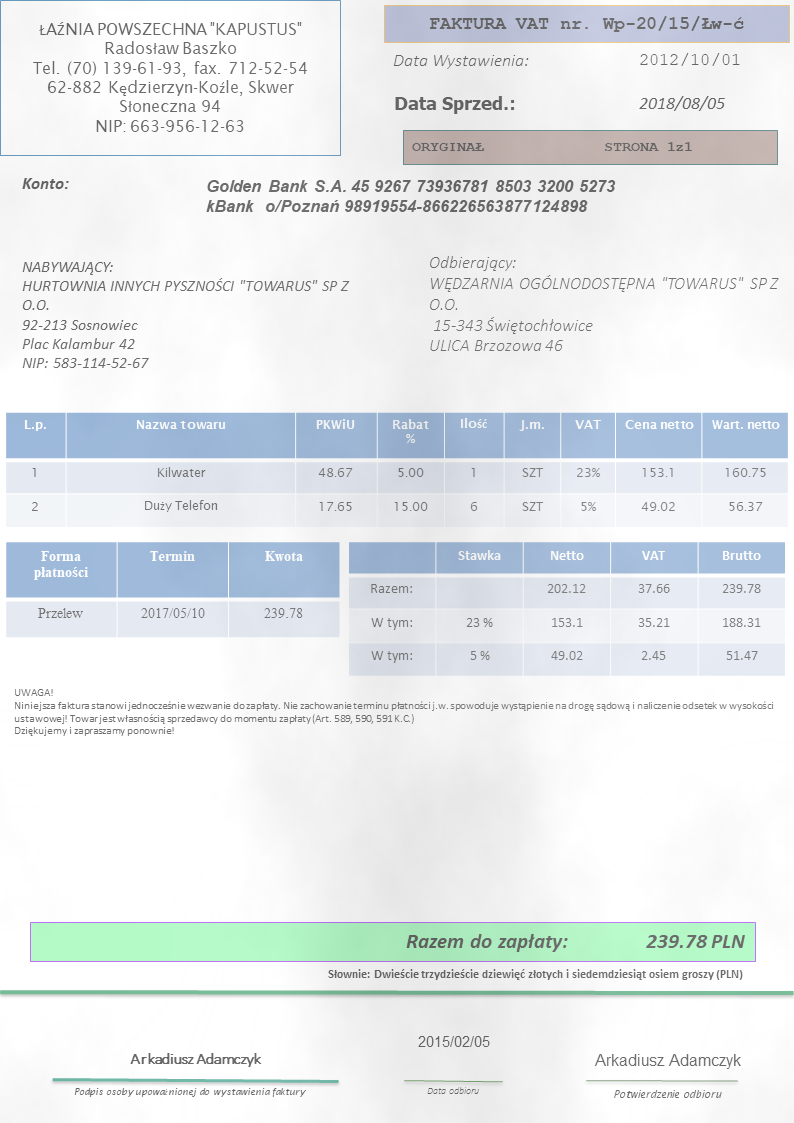Table: (4, 411, 789, 530), (347, 540, 786, 676), (3, 540, 341, 639)
TextBox: (11, 685, 775, 738), (19, 257, 353, 371), (426, 253, 780, 355), (30, 18, 310, 135), (203, 177, 618, 216), (403, 930, 748, 953), (325, 965, 743, 982), (427, 12, 748, 34), (408, 136, 694, 156), (71, 1083, 309, 1100), (592, 1051, 744, 1072), (392, 92, 517, 116), (391, 51, 532, 72), (128, 1050, 264, 1069), (637, 51, 744, 71), (610, 1086, 723, 1101), (637, 94, 728, 112), (415, 1032, 491, 1050), (20, 174, 69, 193), (424, 1084, 479, 1096)
